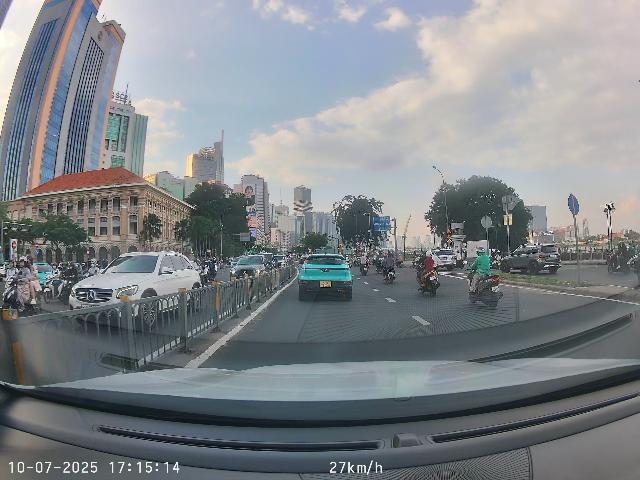301a-cac-xe-chi-duoc-di-thang: (568, 195, 579, 215)
